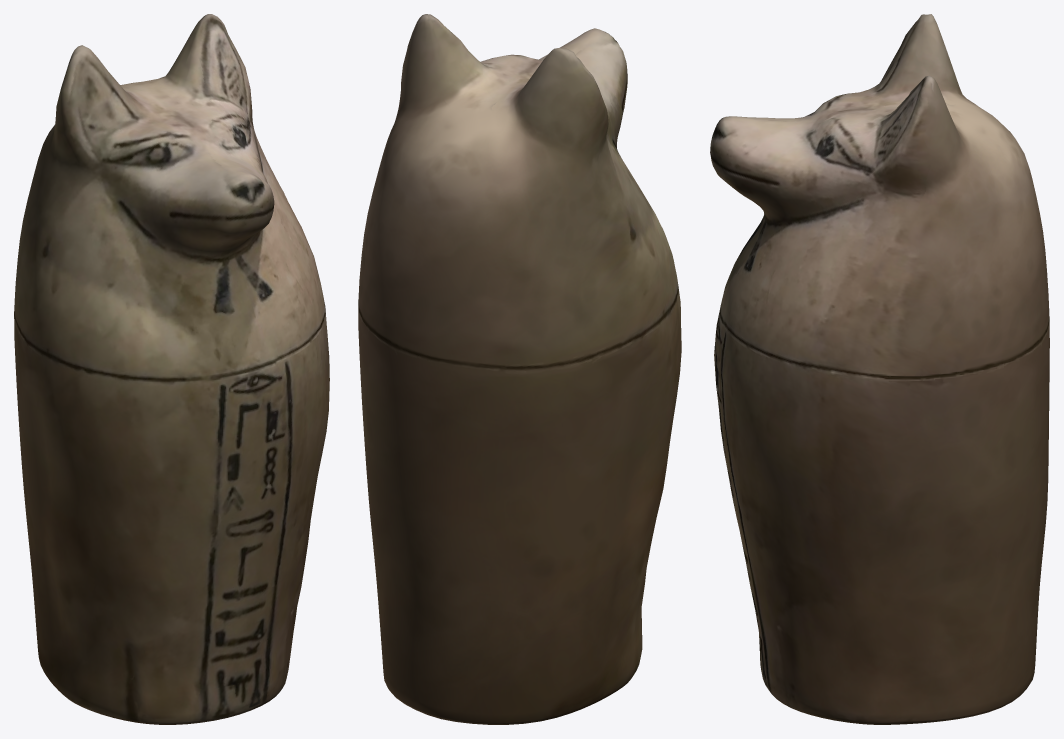
Rendered from jar.glb.
3 renders of one model, left to right at view 1: azimuth 30°, elevation 25°; view 2: azimuth 150°, elevation 25°; view 3: azimuth 270°, elevation 25°, orthographic. The views are drawn at different scales.
Visible parts, largest first — view 1: jar; view 2: jar; view 3: jar.
Boxes of the visible parts, bbox=[...] form: jar: bbox=[14, 14, 329, 724]; jar: bbox=[358, 14, 681, 724]; jar: bbox=[710, 14, 1049, 724].
Size of the model in its own units: 0.1098 by 0.2476 by 0.1206.
1 material, 1 textured.
